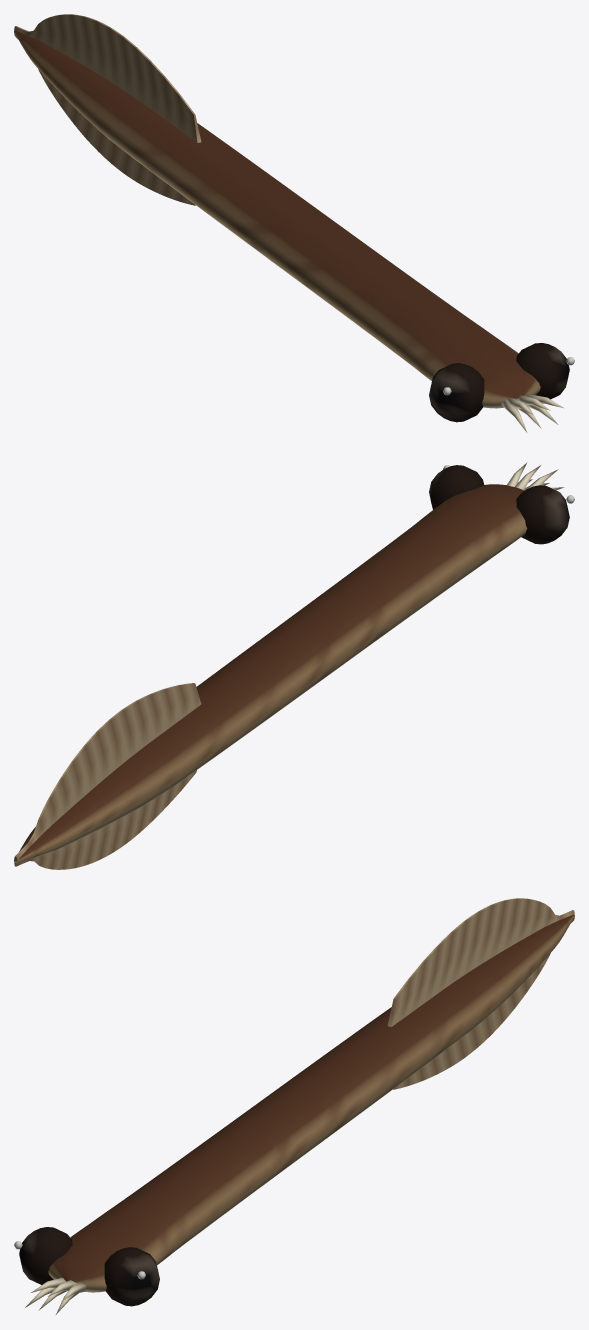
Rendered from PanderodusGracilis.fbx.
3 renders of one model, top to bottom at view 1: azimuth 30°, elevation 25°; view 2: azimuth 150°, elevation 25°; view 3: azimuth 330°, elevation 25°, orthographic.
Visible parts, largest first — view 1: PanderodusGracilis; view 2: PanderodusGracilis; view 3: PanderodusGracilis.
Boxes of the visible parts, <box> form: PanderodusGracilis: <box>14,14,574,432</box>; PanderodusGracilis: <box>14,462,574,869</box>; PanderodusGracilis: <box>14,898,574,1314</box>.
Size of the model in its own units: 0.2565 by 0.2527 by 1.79.
